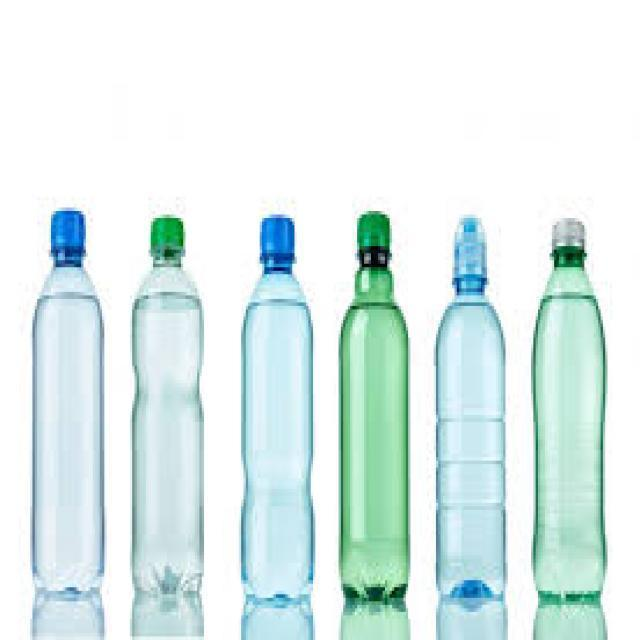Plastic: (236, 208, 314, 604), (336, 210, 414, 604), (530, 217, 608, 604), (31, 205, 106, 596), (129, 214, 204, 597), (434, 218, 508, 602)
